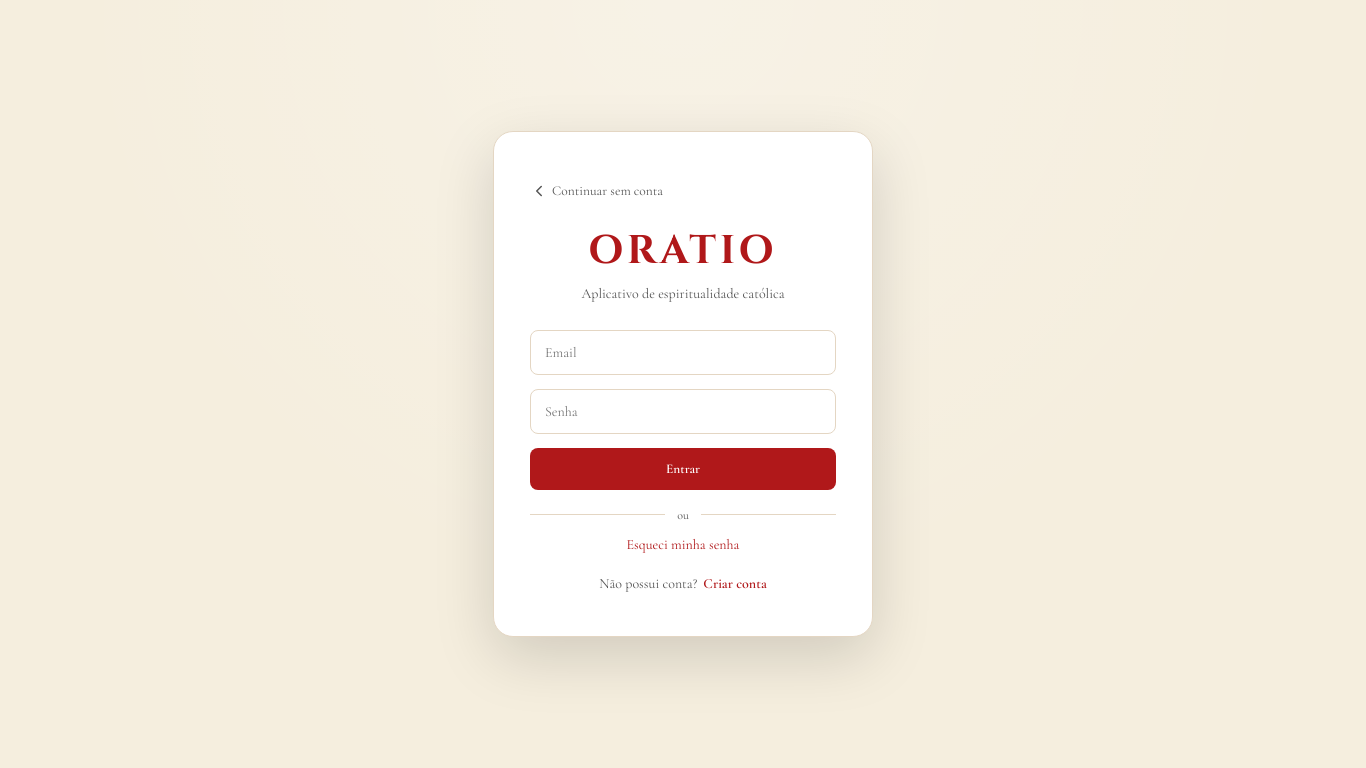
Scenario: Login › sends a password-reset email through the forgot-password modal
The image size is (1366, 768).
Click the text "Esqueci minha senha": click(683, 544) [627,536,740,553]
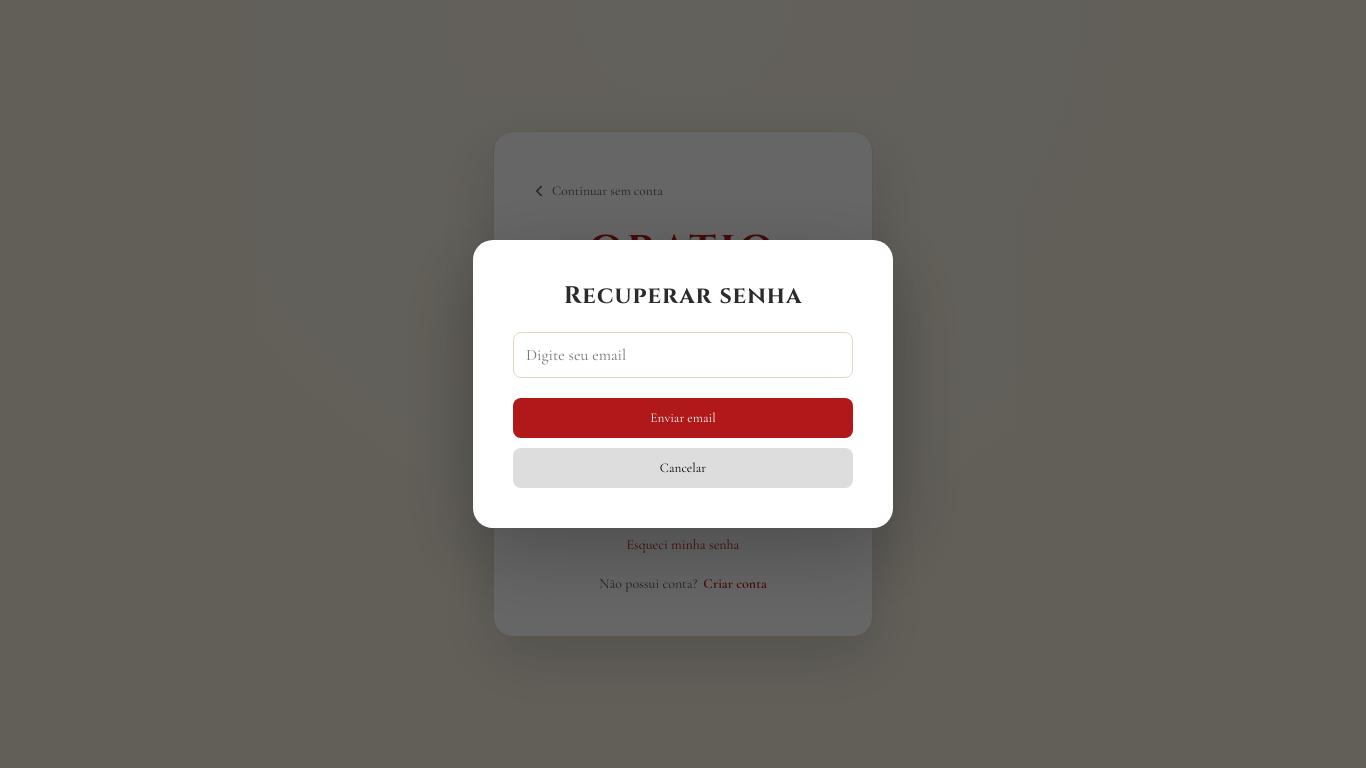
In the field with placeholder "Digite seu email": (683, 355) [513,332,853,378], type "a@b.com"
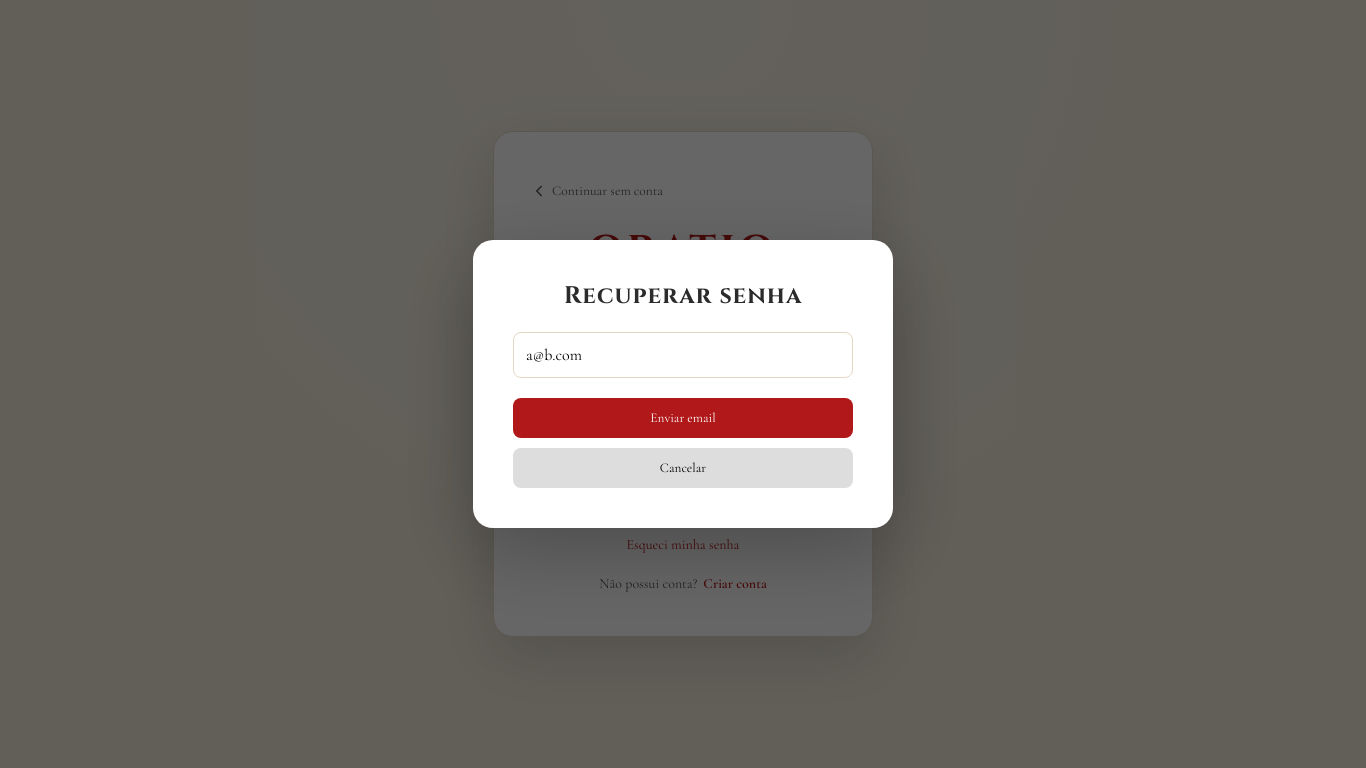
Click the button "Enviar email": click(683, 418) [513,398,853,438]
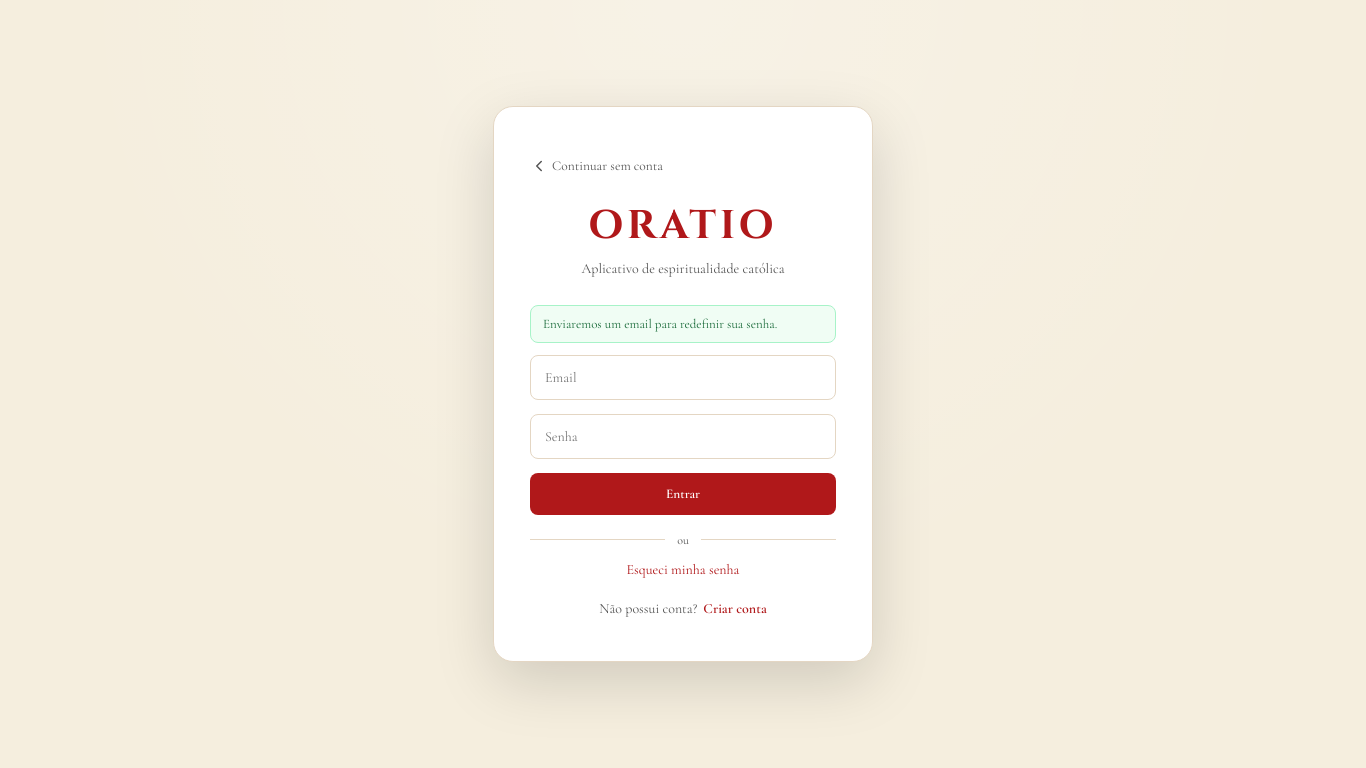
Expected: the text "Enviaremos um email para redefinir sua senha." is shown, [530,305,836,343]
